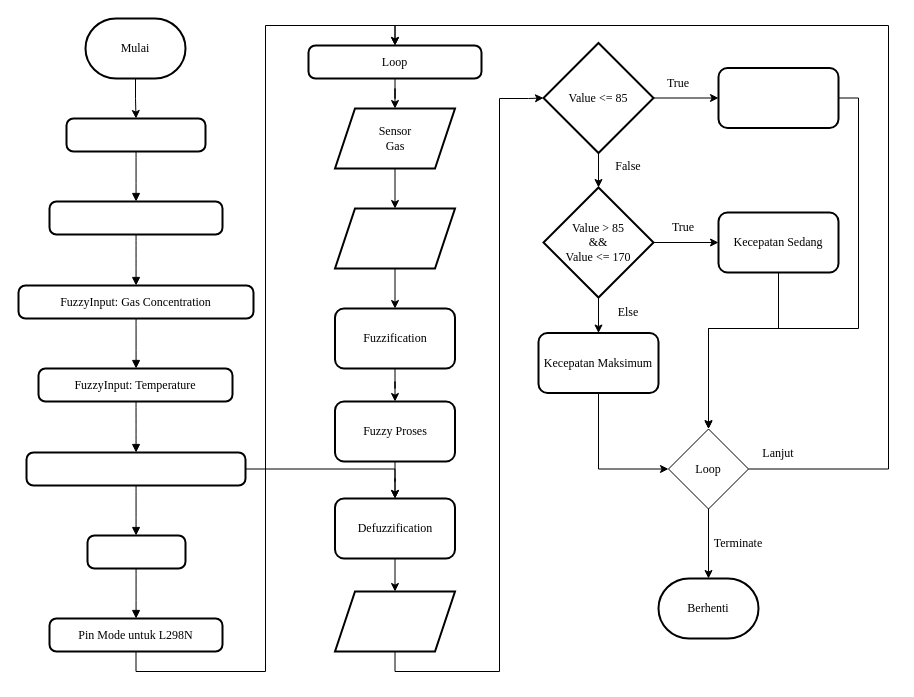
This 914x697 diagram has some shape labels left out. The centre of each missing label's shape, as x and y in pixels:
"Exhaust Speed Value" belongs at point 395,621.
"Fuzzy Rules" belongs at point 136,551.
"FuzzyOutput: Exhaust Speed" belongs at point 135,468.
"Inisialisasi Sensor DHT" belongs at point 135,217.
"Kecepatan Rendah" belongs at point 778,97.
"Sensor Suhu" belongs at point 395,238.
"Setup: Inisialisasi" belongs at point 135,134.
